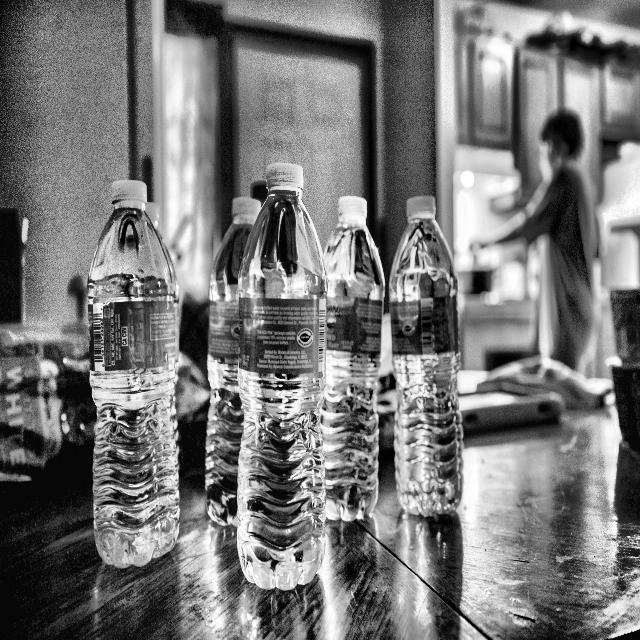waterbottle: (228, 152, 332, 600), (82, 168, 191, 580), (297, 186, 395, 534), (198, 183, 286, 537), (388, 188, 468, 522)
